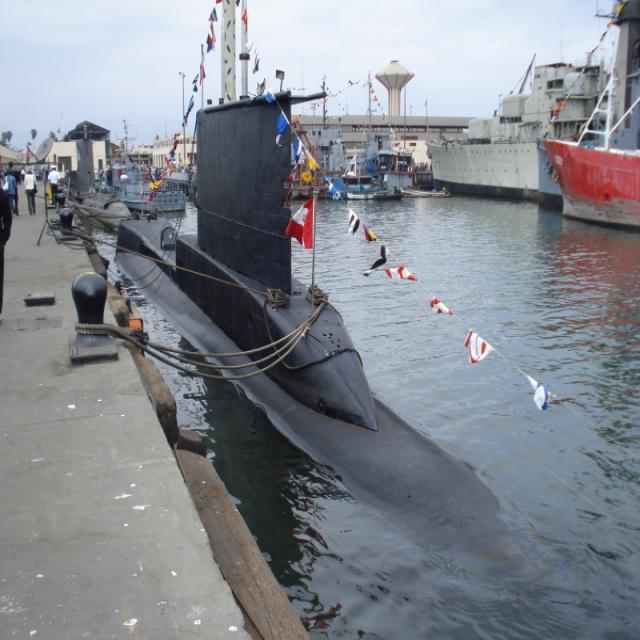submarine: (112, 89, 552, 586)
